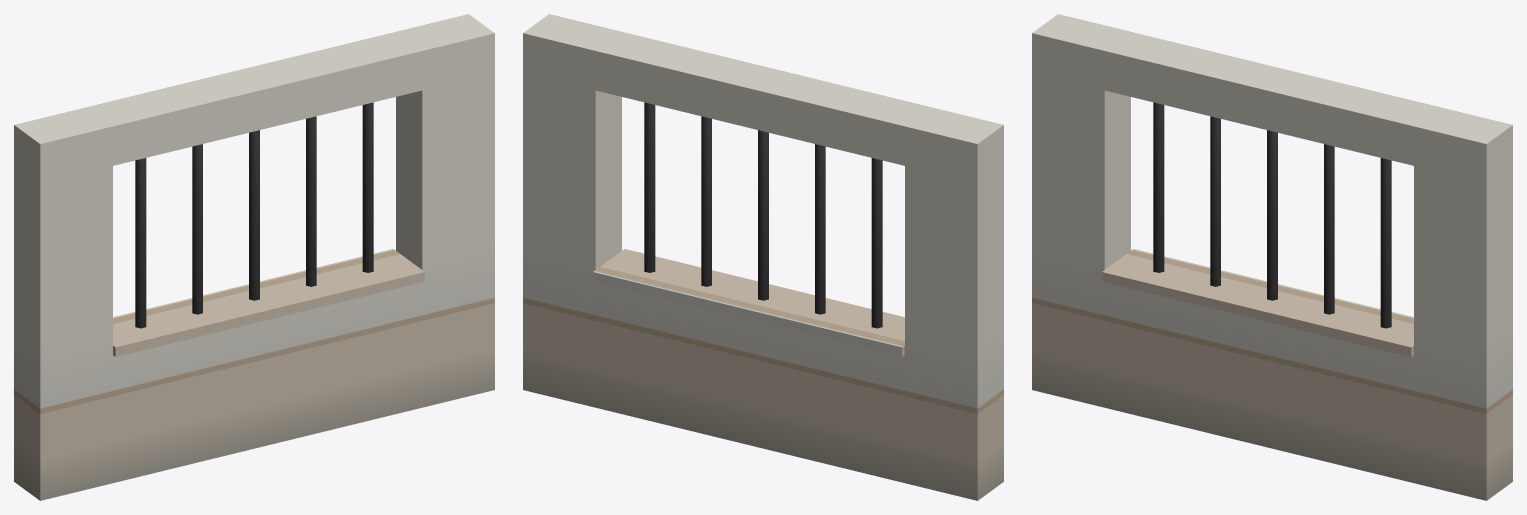
The model's file is wall_long_window.fbx.
3 renders of one model, left to right at view 1: azimuth 30°, elevation 25°; view 2: azimuth 150°, elevation 25°; view 3: azimuth 330°, elevation 25°, orthographic.
Parts seen in each view (by area): view 1: wall_long_window; view 2: wall_long_window; view 3: wall_long_window.
Boxes of the visible parts, box(x1,y1,x2,y2) form: wall_long_window: box(14, 14, 494, 500); wall_long_window: box(523, 14, 1003, 500); wall_long_window: box(1032, 14, 1512, 500).
Bounding box in the file's own units: 4 × 3 × 0.4827.
1 material, 1 textured.
